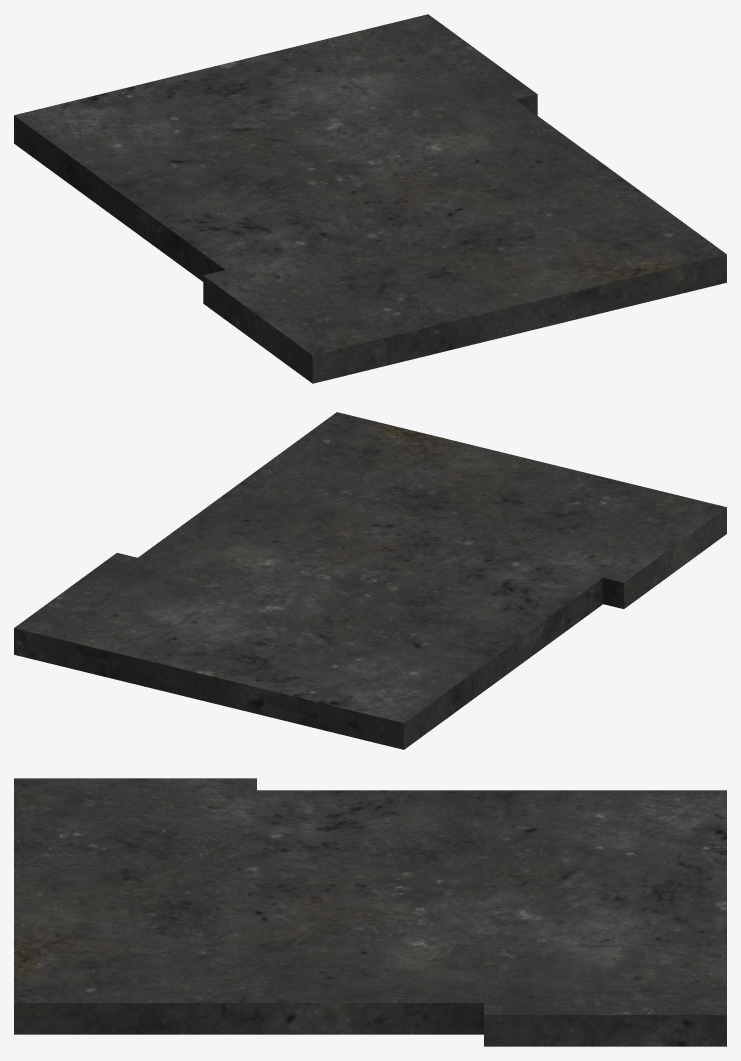
File: Roof_01.FBX
3 views of the same model, one above another, from view 1: azimuth 30°, elevation 25°; view 2: azimuth 150°, elevation 25°; view 3: azimuth 270°, elevation 25° (orthographic). The views are drawn at different scales.
Visible parts, largest first — view 1: Roof_01; view 2: Roof_01; view 3: Roof_01.
Boxes of the visible parts, x1=… form: Roof_01: x1=14, y1=14, x2=726, y2=383; Roof_01: x1=14, y1=412, x2=726, y2=749; Roof_01: x1=14, y1=778, x2=726, y2=1046.
Size of the model in its own units: 1479 by 91.56 by 1884.
